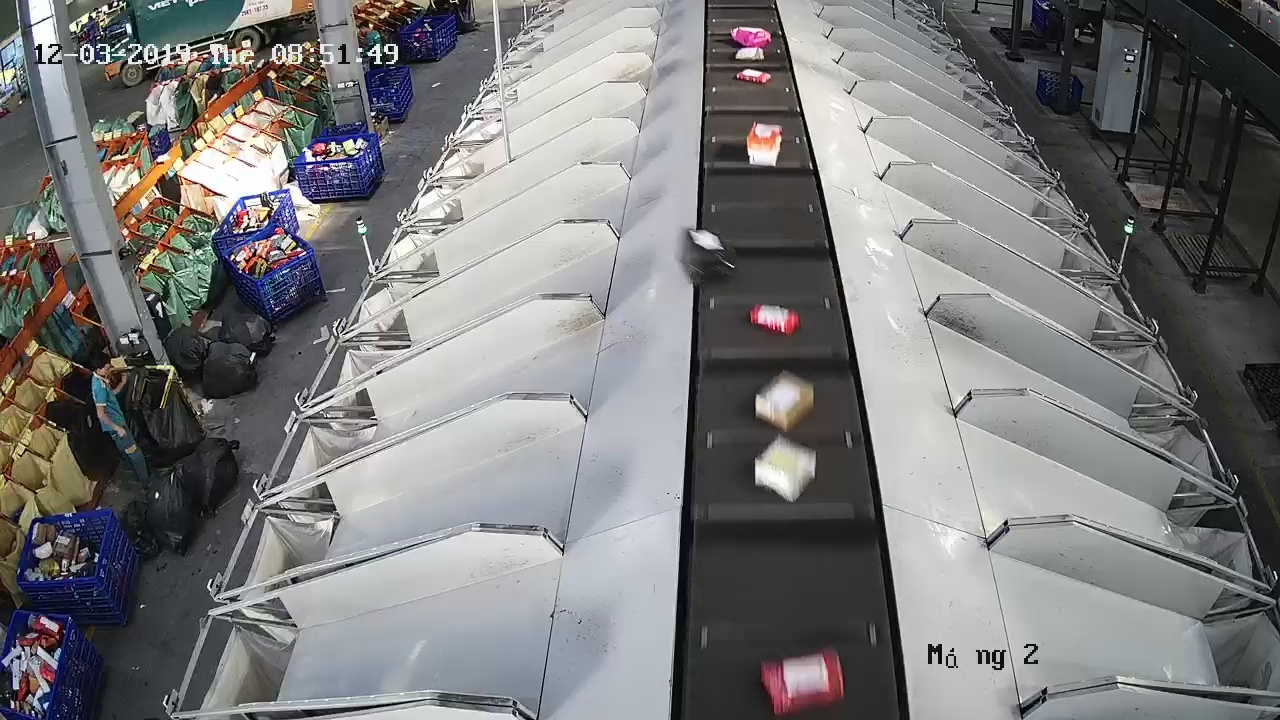parcel: (759, 644, 847, 720), (752, 434, 818, 504), (753, 368, 816, 433), (677, 226, 739, 288), (748, 302, 802, 338), (745, 120, 784, 169)
